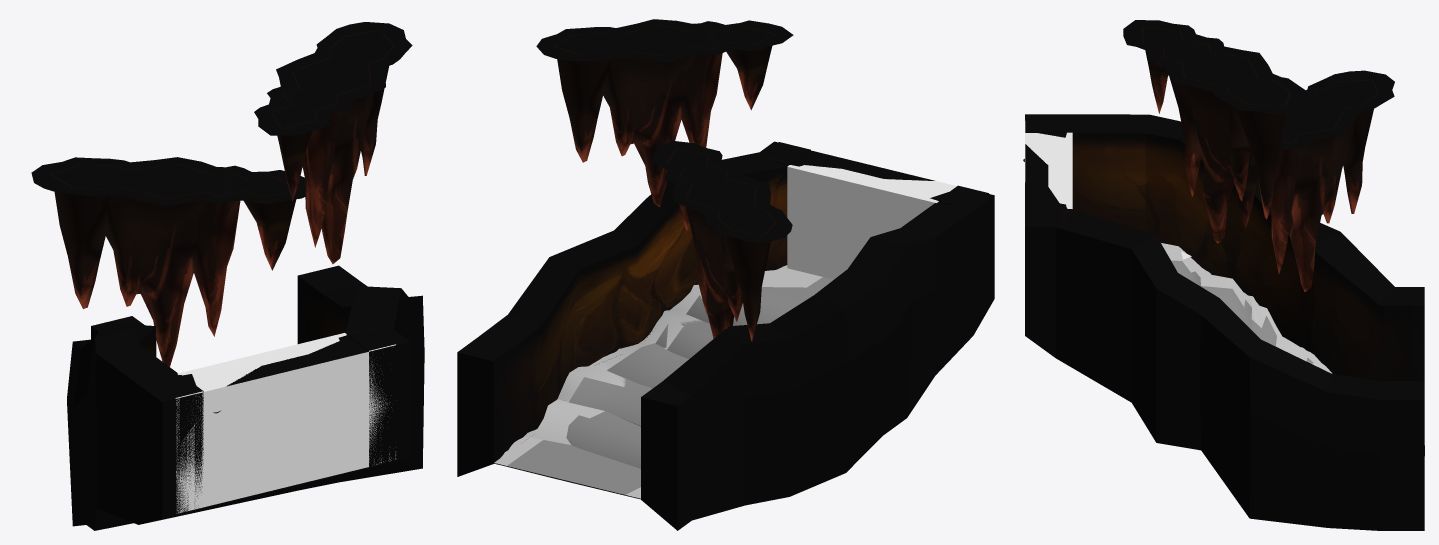
The model's file is Dungeon_062_GoalStepD_003.fbx.
3 renders of one model, left to right at view 1: azimuth 30°, elevation 25°; view 2: azimuth 150°, elevation 25°; view 3: azimuth 270°, elevation 25°, orthographic. The views are drawn at different scales.
Visible parts, largest first — view 1: Dun_062_StepD_001_wall, Dungeon_011_Iwa004_1, DoorWay_NavMask (3), Dungeon_011_Iwa004_1 (1), DoorWay_NavMask (1), Dun_062_Door_002, DoorWay_NavMask (2); view 2: Dun_062_StepD_001_wall, Dungeon_011_Iwa004_1 (1), Dun_062_StepD_001_Nav, Dungeon_011_Iwa004_1, DoorWay_NavMask (1), Dun_062_StepD_001_shadow, Dun_062_Door_002; view 3: Dun_062_StepD_001_wall, Dungeon_011_Iwa004_1 (1), Dungeon_011_Iwa004_1, Dun_062_Door_002, Dun_062_StepD_001_shadow, Dun_062_StepD_001_Nav, DoorWay_NavMask (1), DoorWay_NavMask (3).
Part boxes in pixels (x1,y1,x2,y2): Dun_062_StepD_001_wall: [67, 265, 424, 530]; Dungeon_011_Iwa004_1: [31, 157, 305, 366]; DoorWay_NavMask (3): [175, 344, 396, 513]; Dungeon_011_Iwa004_1 (1): [254, 22, 412, 264]; DoorWay_NavMask (1): [177, 333, 369, 507]; Dun_062_Door_002: [146, 326, 404, 508]; DoorWay_NavMask (2): [180, 367, 245, 384]; Dun_062_StepD_001_wall: [457, 141, 994, 530]; Dungeon_011_Iwa004_1 (1): [536, 19, 793, 206]; Dun_062_StepD_001_Nav: [507, 277, 833, 494]; Dungeon_011_Iwa004_1: [652, 141, 792, 341]; DoorWay_NavMask (1): [787, 165, 956, 279]; Dun_062_StepD_001_shadow: [494, 265, 822, 498]; Dun_062_Door_002: [759, 142, 988, 207]; Dun_062_StepD_001_wall: [1025, 114, 1424, 530]; Dungeon_011_Iwa004_1 (1): [1123, 20, 1310, 243]; Dungeon_011_Iwa004_1: [1235, 70, 1394, 291]; Dun_062_Door_002: [1025, 116, 1069, 223]; Dun_062_StepD_001_shadow: [1161, 243, 1332, 373]; Dun_062_StepD_001_Nav: [1171, 260, 1313, 363]; DoorWay_NavMask (1): [1028, 132, 1072, 208]; DoorWay_NavMask (3): [1025, 121, 1054, 195].
Size of the model in its own units: 7.11 by 7.6 by 6.77.
